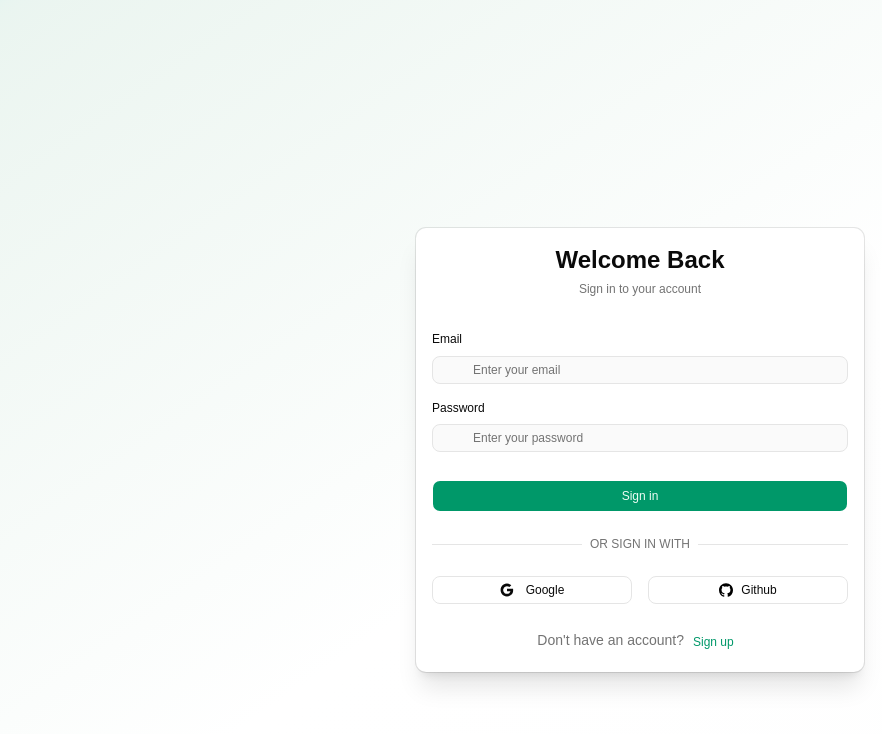
LoginPage › validation › shows error for invalid email
Click the button "Sign in" at (640,496), box [432,480,848,512]
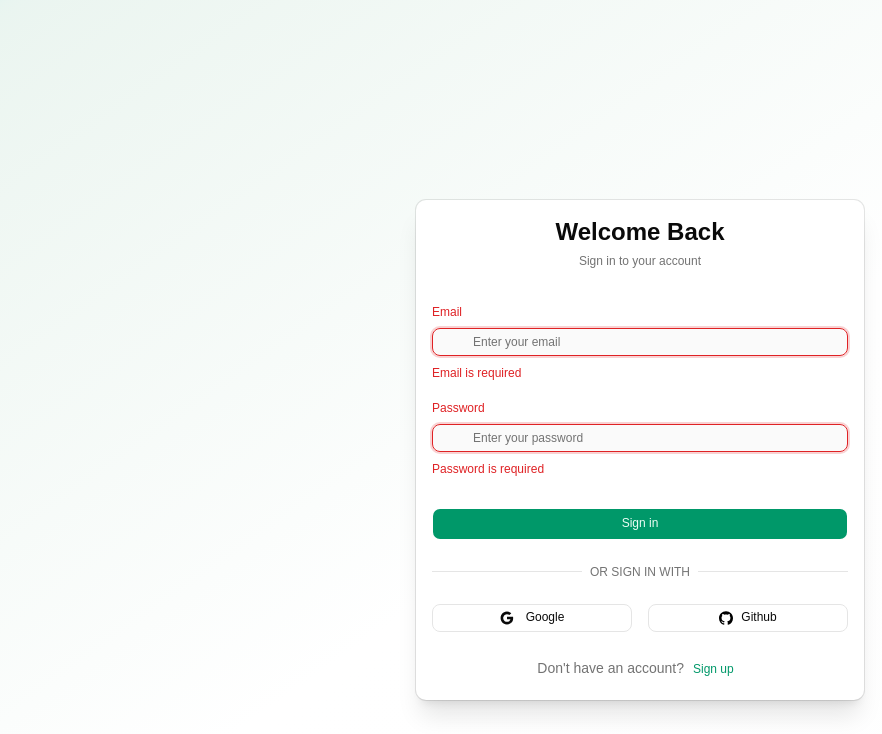
Type "notanemail" into the field labelled "Email" at (640,342), box [432,328,848,356]
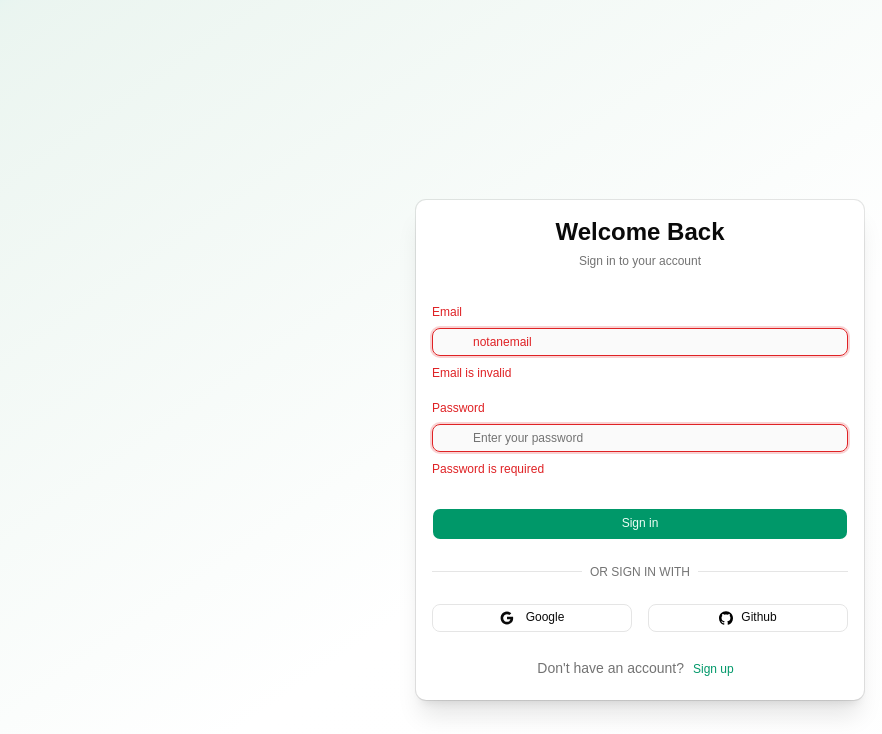
Check: the text "Email is invalid" is shown, box [432,366,511,380]
